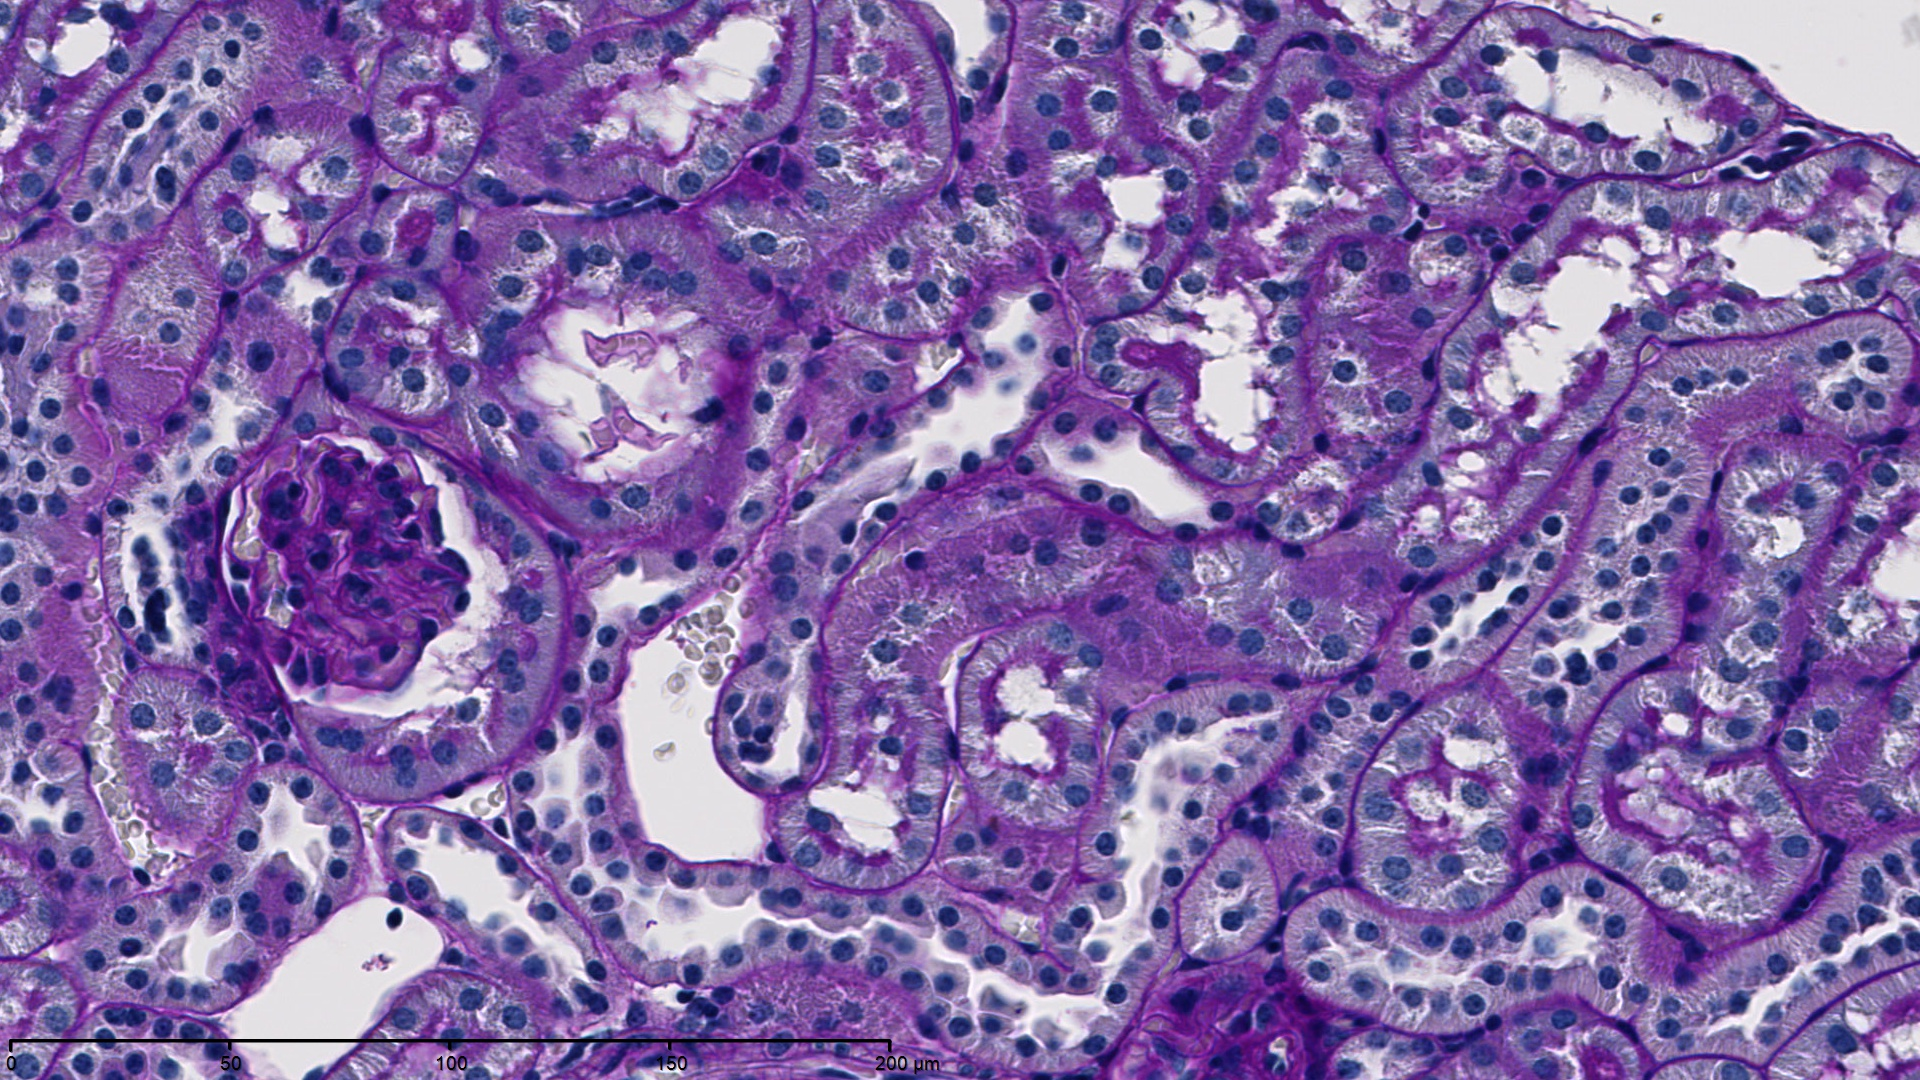Glomeruli: (165, 425, 516, 720), (1109, 971, 1309, 1077)
